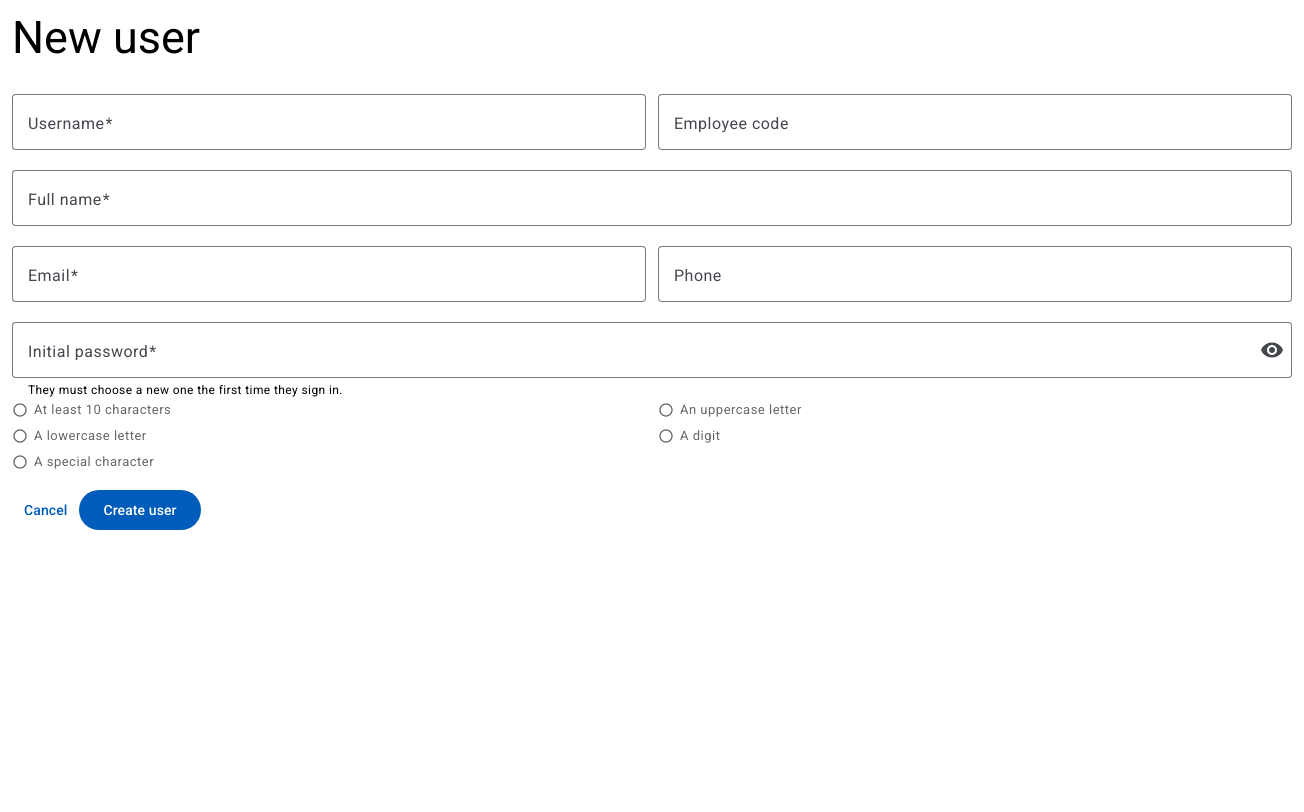
it: UserFormDialogComponent › shows the server explanation inside the dialog and keeps it open
The image size is (1304, 812).
Type "meena" into the field labelled "Username" at [329, 122], box x1=28 y1=110 x2=630 y2=134
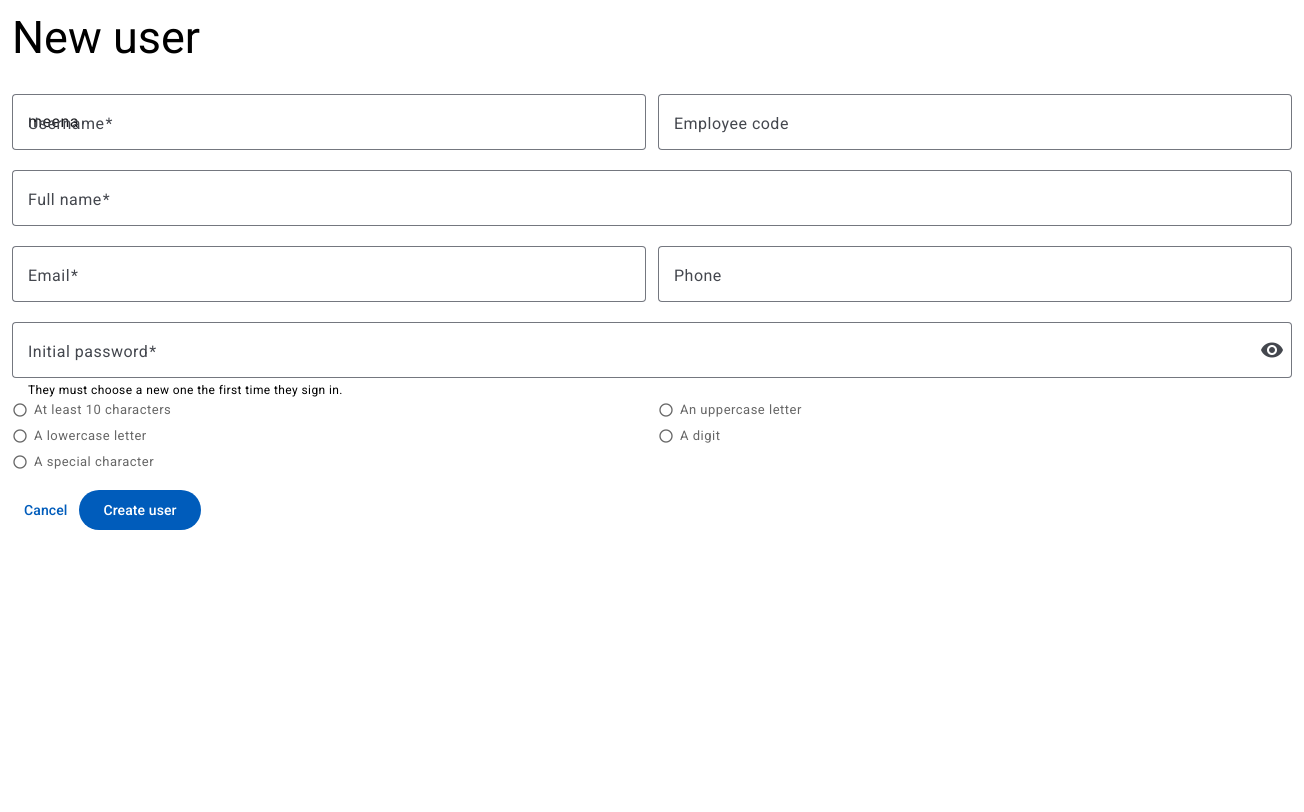
Type "Meena Iyer" into the field labelled "Full name" at [652, 198], box x1=28 y1=186 x2=1276 y2=210
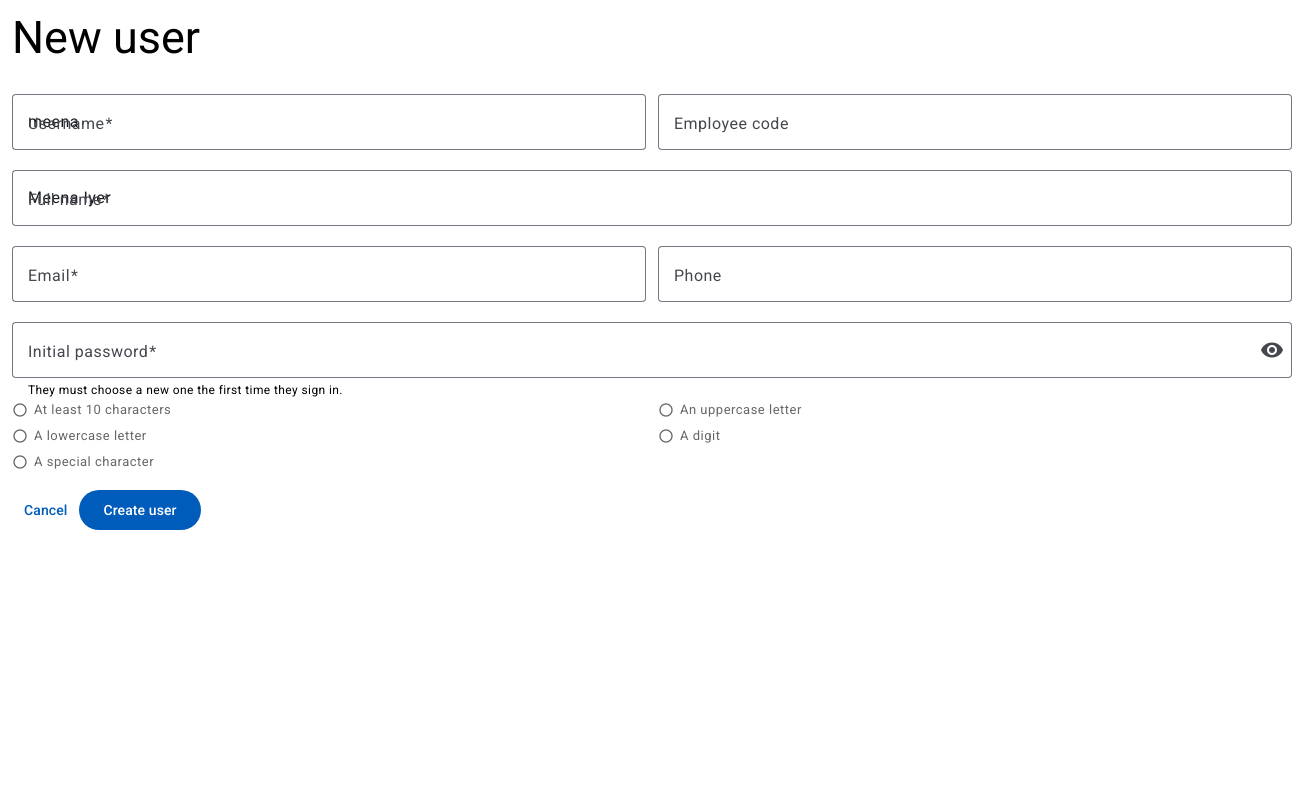
Type "meena@example.com" into the field labelled "Email" at [329, 274], box x1=28 y1=262 x2=630 y2=286
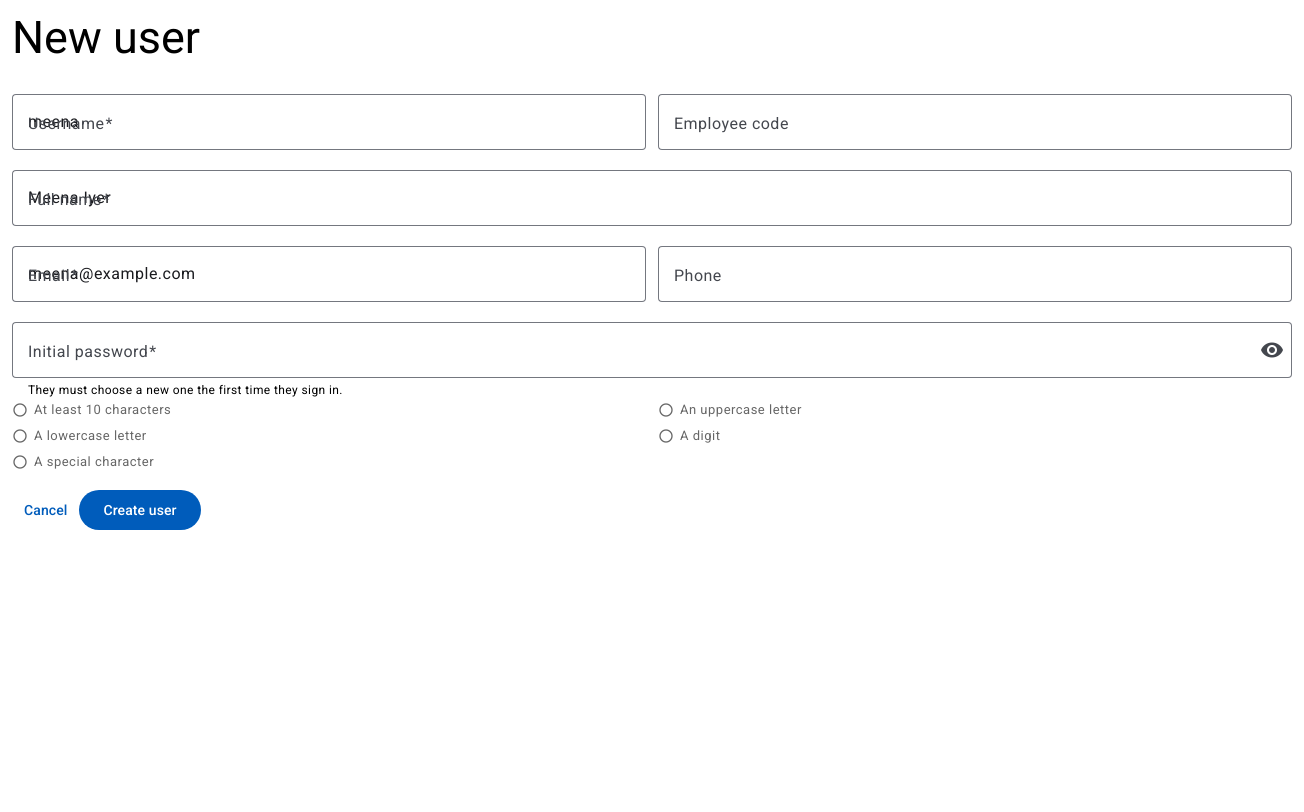
Type "E-9" into the field labelled "Employee code" at [975, 122], box x1=674 y1=110 x2=1276 y2=134
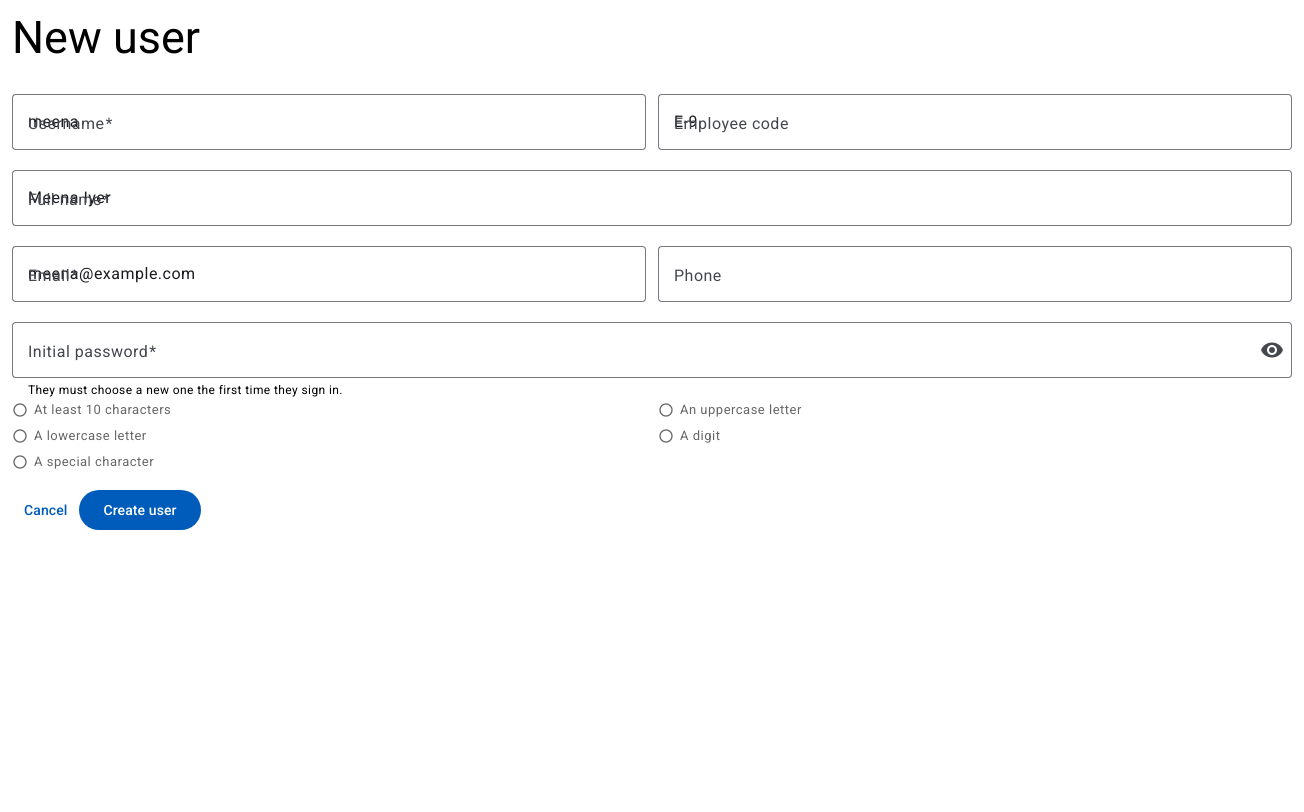
Type "Fresh#Start-2026x" into the password field labelled "Initial password" at [638, 350], box x1=28 y1=338 x2=1248 y2=362
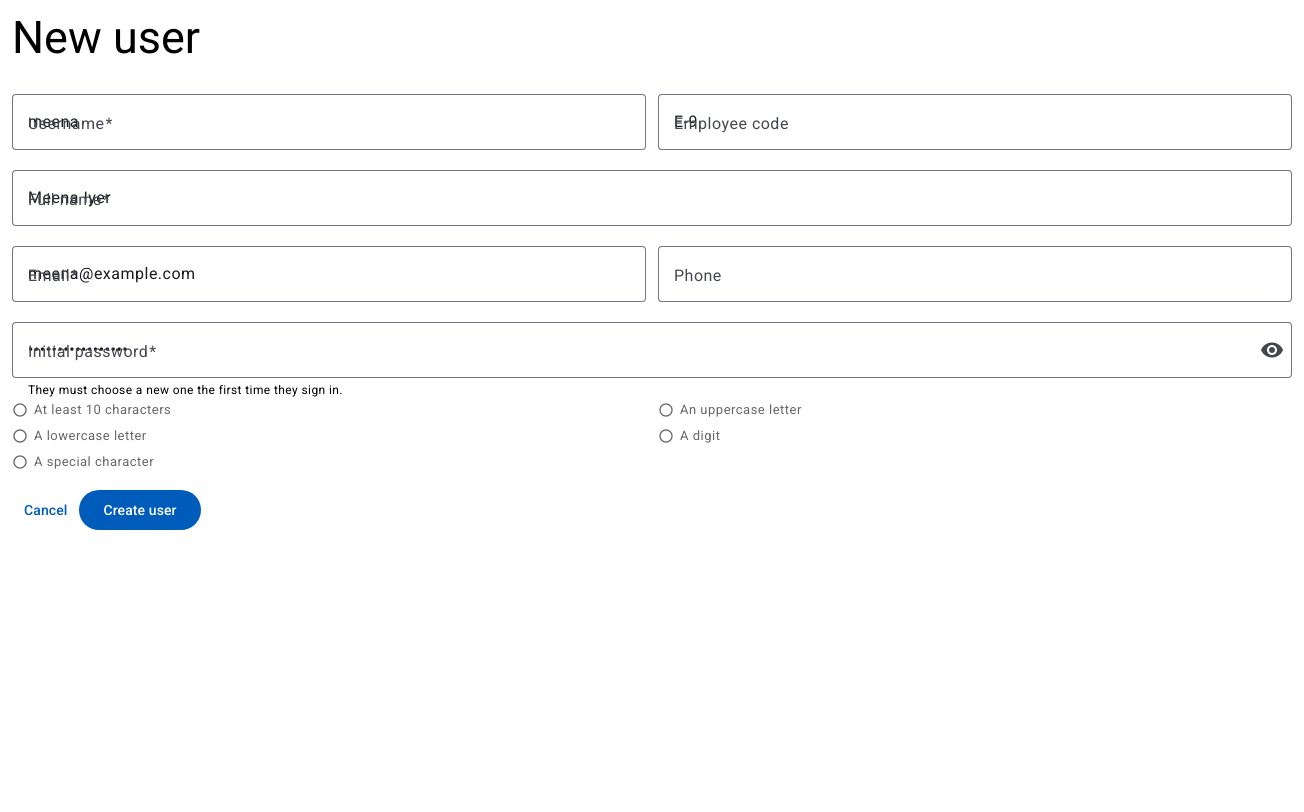
Click the button with test id "user-save" at [140, 510], box x1=79 y1=490 x2=201 y2=530
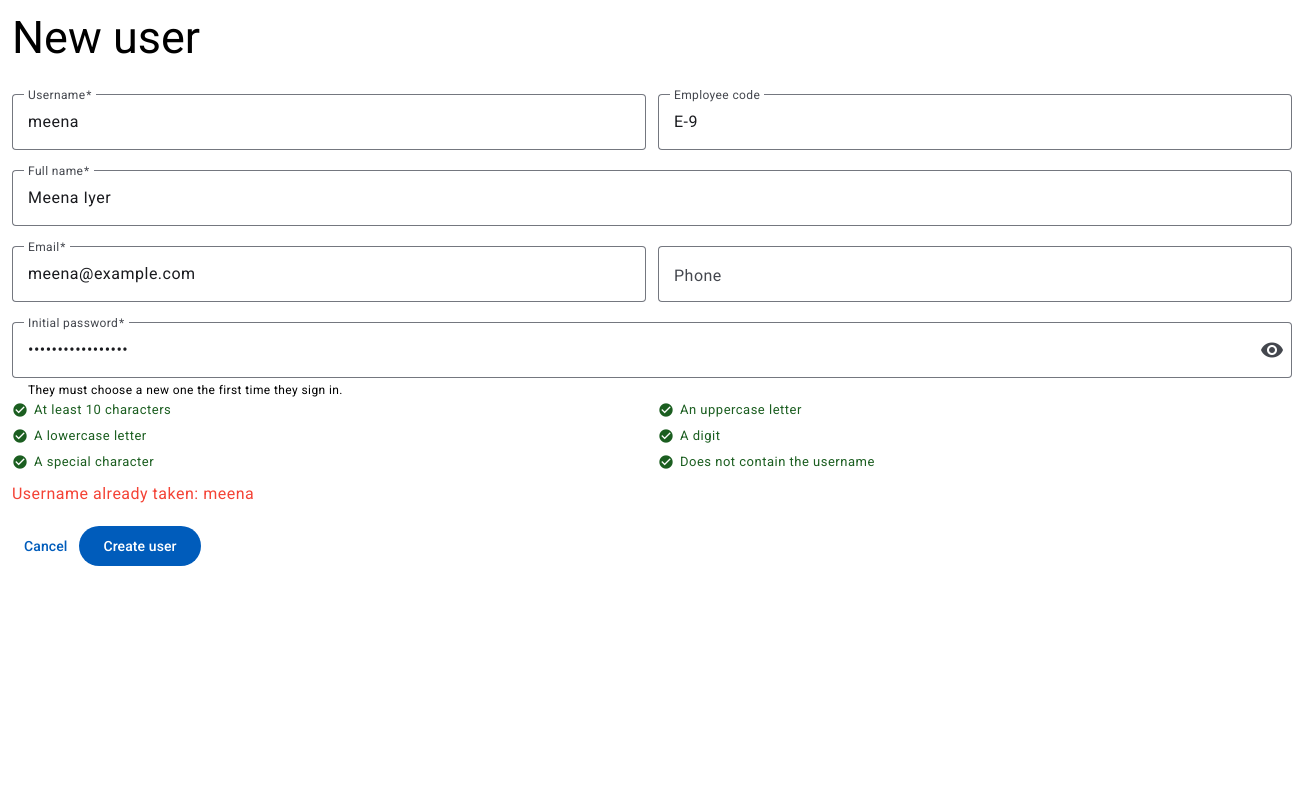
Expected: the message with test id "user-form-error" reads "Username already taken: meena", x1=12 y1=484 x2=254 y2=504
